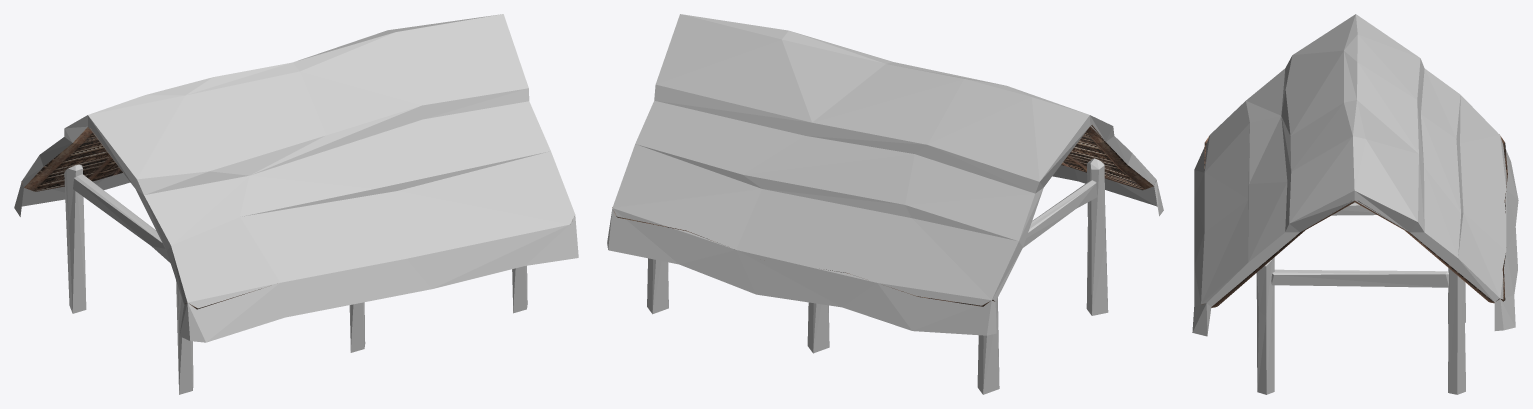
Rendered from Shelter_1_LOD3.fbx.
3 views of the same model, side by side, from view 1: azimuth 30°, elevation 25°; view 2: azimuth 150°, elevation 25°; view 3: azimuth 270°, elevation 25° (orthographic). The views are drawn at different scales.
Parts seen in each view (by area): view 1: Alphas, Wood, Roof; view 2: Alphas, Wood, Roof; view 3: Alphas, Wood, Roof.
Boxes of the visible parts, <box> form: Alphas: <box>14,14,578,342</box>; Wood: <box>64,164,527,394</box>; Roof: <box>21,127,261,309</box>; Alphas: <box>607,14,1163,335</box>; Wood: <box>647,158,1108,394</box>; Roof: <box>612,125,1156,306</box>; Alphas: <box>1192,14,1518,336</box>; Wood: <box>1256,202,1465,394</box>; Roof: <box>1201,134,1507,307</box>.
Bounding box in the file's own units: 1791 × 1396 × 1064.
